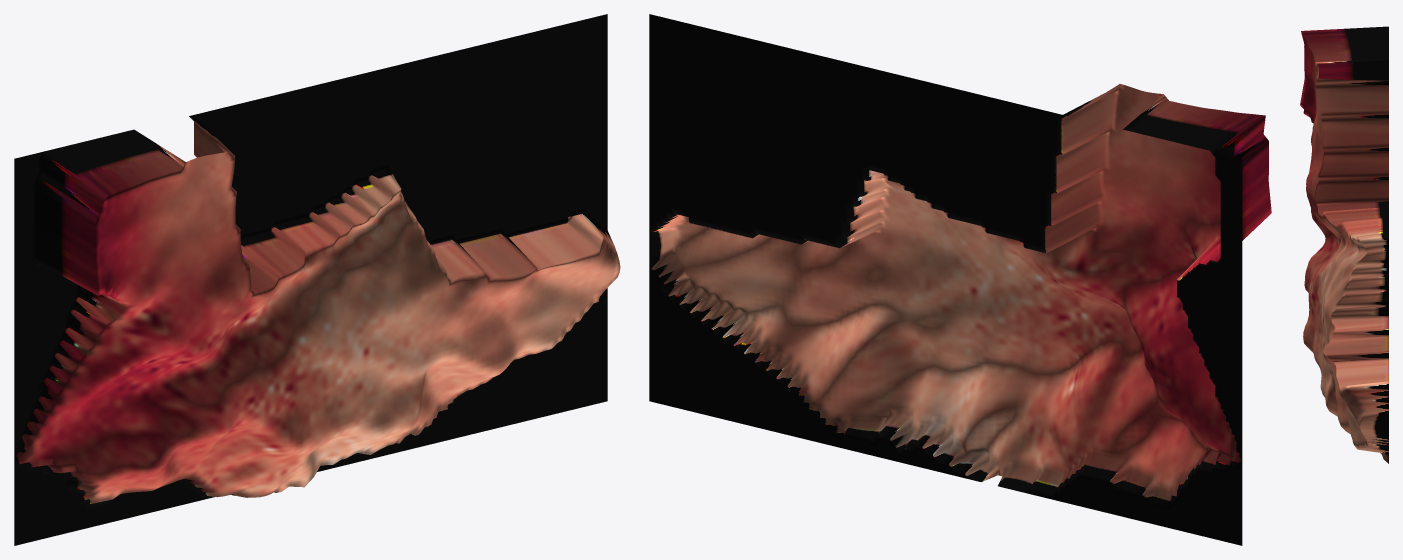
The model's file is tirumala_terrain_los.glb.
3 renders of one model, left to right at view 1: azimuth 30°, elevation 25°; view 2: azimuth 150°, elevation 25°; view 3: azimuth 270°, elevation 25°, orthographic. The views are drawn at different scales.
Visible parts, largest first — view 1: Tirumala_Terrain_Mesh; view 2: Tirumala_Terrain_Mesh; view 3: Tirumala_Terrain_Mesh.
Boxes of the visible parts, x1=… form: Tirumala_Terrain_Mesh: x1=14, y1=14, x2=620, y2=545; Tirumala_Terrain_Mesh: x1=649, y1=14, x2=1271, y2=545; Tirumala_Terrain_Mesh: x1=1300, y1=26, x2=1388, y2=463.
Bounding box in the file's own units: 8720 × 5440 × 1438.
1 material, 1 textured.
